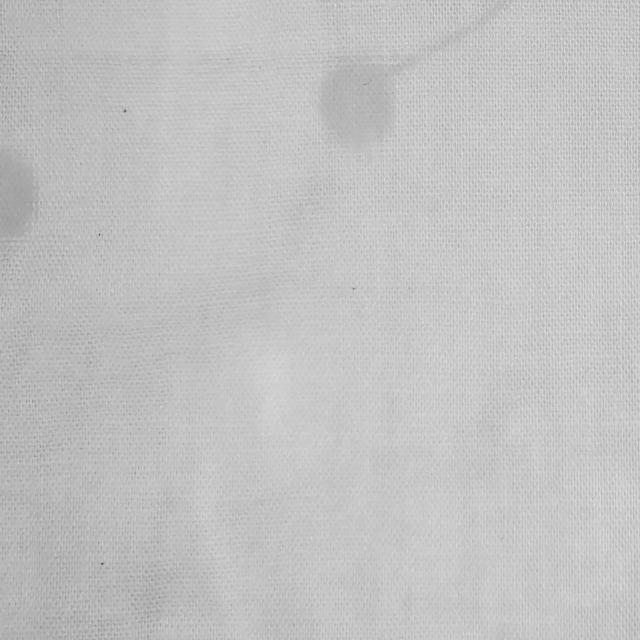stain: (323, 4, 505, 149), (0, 148, 38, 238)
